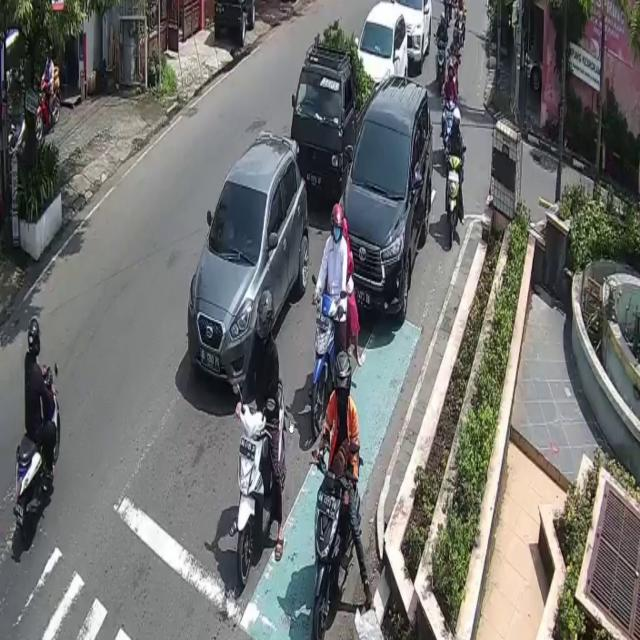car: (188, 131, 308, 393), (341, 77, 434, 322), (290, 42, 376, 200), (358, 0, 409, 84), (396, 0, 434, 71)
motorbike: (234, 390, 290, 583), (313, 458, 360, 640), (14, 362, 61, 540), (314, 292, 343, 430), (446, 154, 461, 248)
